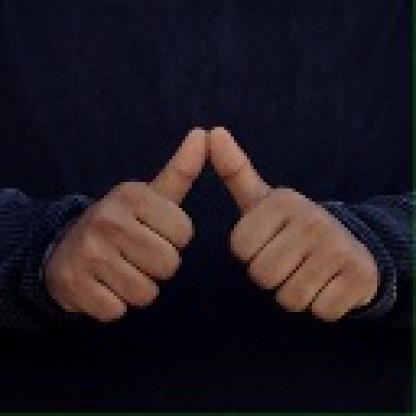A: (56, 115, 384, 330)
